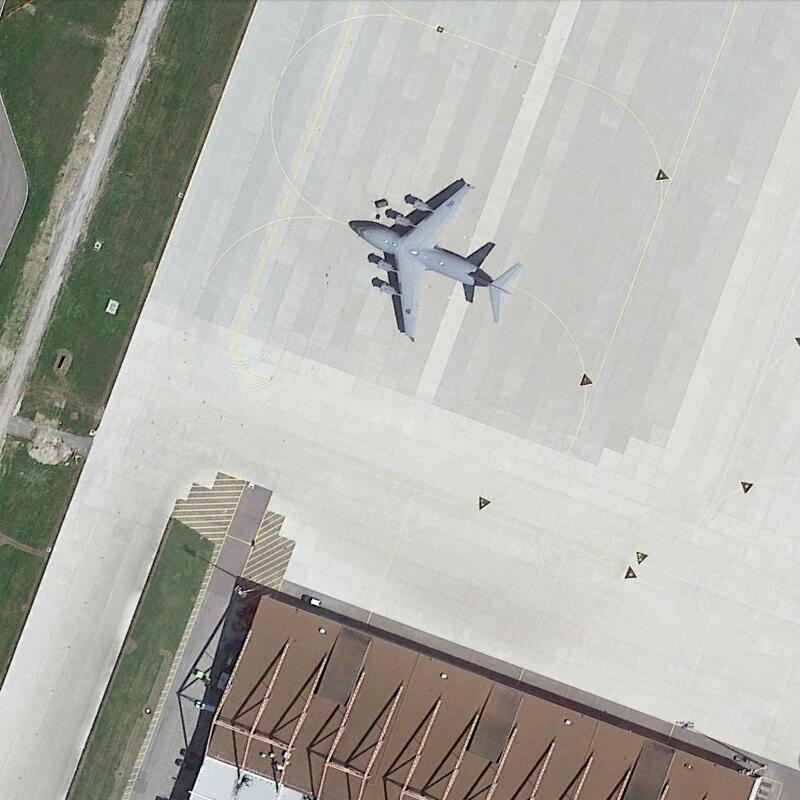A3: (350, 176, 528, 347)
